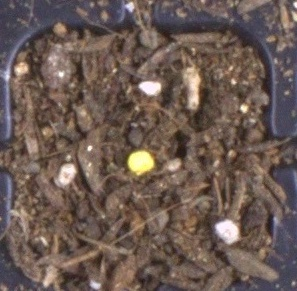chilli seed: (127, 150, 154, 175)
